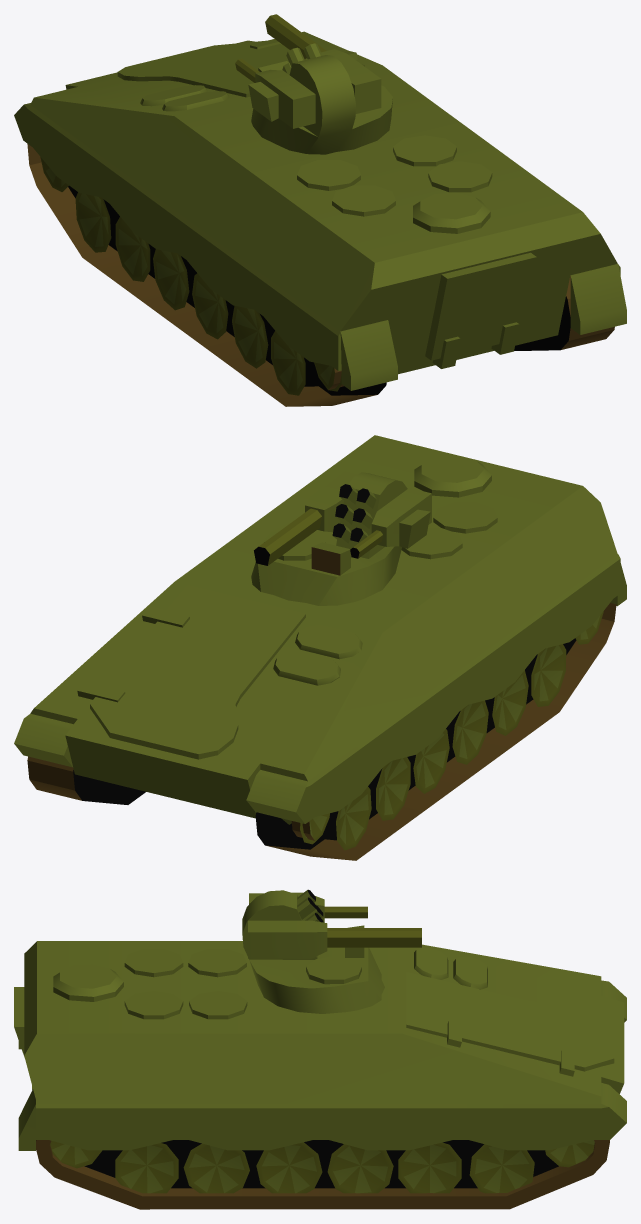
The model's file is marder.glb.
The picture shows the model from 3 angles, top to bottom: view 1: azimuth 30°, elevation 25°; view 2: azimuth 150°, elevation 25°; view 3: azimuth 270°, elevation 25°; orthographic projection. The views are drawn at different scales.
Parts seen in each view (by area): view 1: hull.002, marder1a2_turret.003, barrel; view 2: hull.002, marder1a2_turret.003, barrel; view 3: hull.002, marder1a2_turret.003, barrel.
Part boxes in pixels (x1=…): hull.002: x1=14, y1=31, x2=626, y2=406; marder1a2_turret.003: x1=251, y1=43, x2=392, y2=154; barrel: x1=235, y1=14, x2=381, y2=128; hull.002: x1=14, y1=435, x2=626, y2=860; marder1a2_turret.003: x1=251, y1=472, x2=407, y2=605; barrel: x1=254, y1=471, x2=431, y2=565; hull.002: x1=14, y1=941, x2=626, y2=1209; marder1a2_turret.003: x1=242, y1=889, x2=384, y2=1013; barrel: x1=248, y1=892, x2=421, y2=958.
Size of the model in its own units: 0.4841 by 0.4363 by 1.
